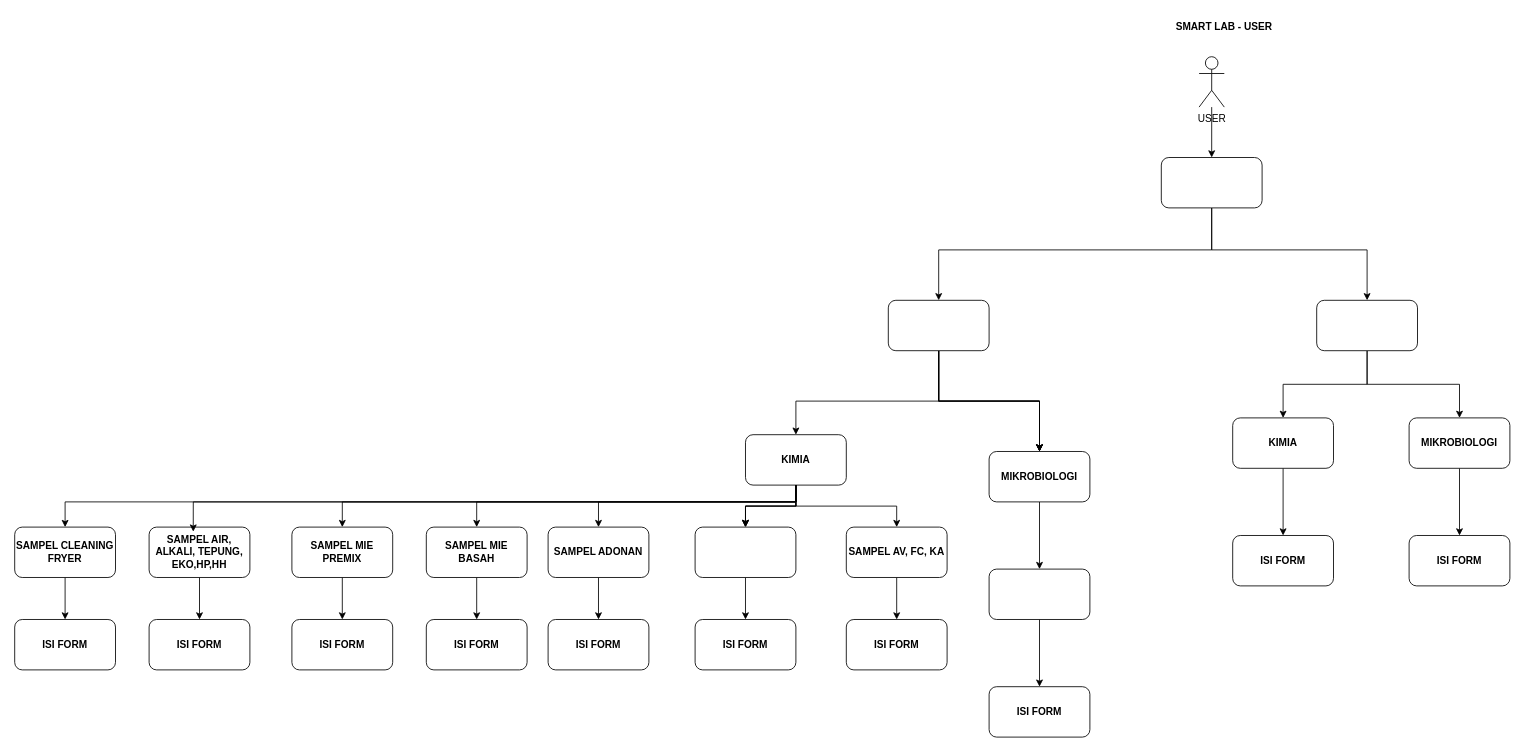
This 1525x752 diagram has some shape labels left out. Here are the shapes that lost their labels. From the top down, the centre of each, then its label:
At point 1211,182: "PILIH DEPT".
At point 938,325: "SAMPLE DAILY ACTIVITY".
At point 1367,325: "SAMPLE PERMINTAAN ANALISA".
At point 745,552: "SAMPEL LOGAM".
At point 1039,594: "SAMPLE MIE PACKING MIKRO".
